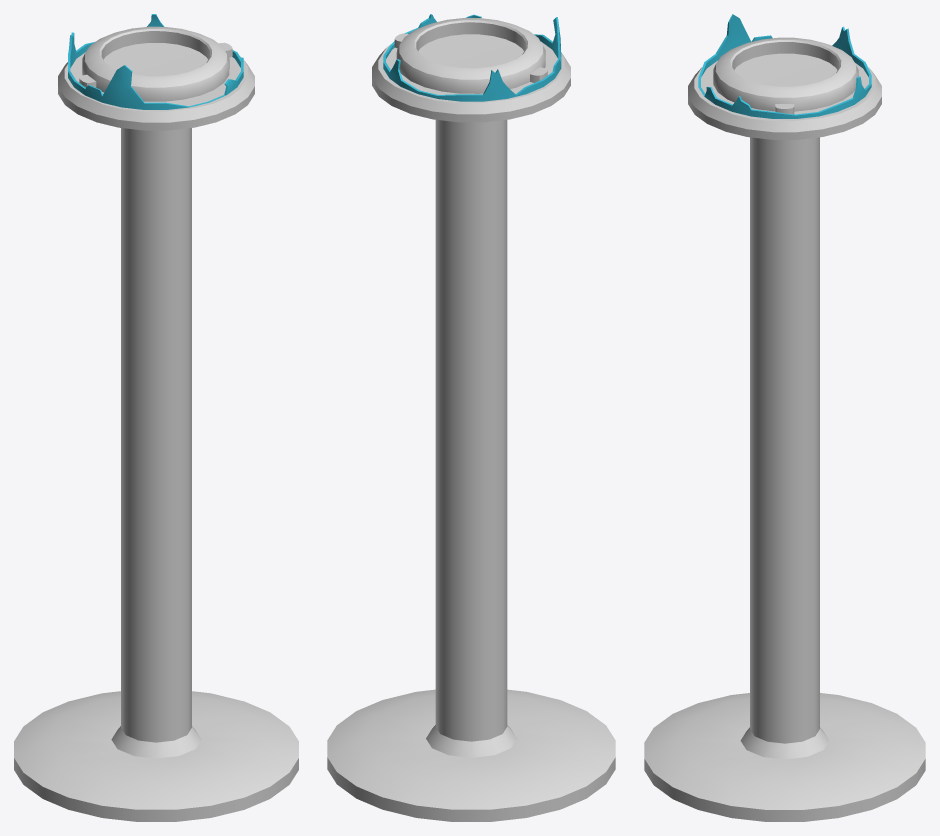
Rendered from ButtonStandCombined.fbx.
3 renders of one model, left to right at view 1: azimuth 30°, elevation 25°; view 2: azimuth 150°, elevation 25°; view 3: azimuth 270°, elevation 25°, orthographic. The views are drawn at different scales.
Parts seen in each view (by area): view 1: Cylinder; view 2: Cylinder; view 3: Cylinder.
Part boxes in pixels (x1,y1,x2,y2): Cylinder: [14, 14, 298, 821]; Cylinder: [327, 14, 615, 821]; Cylinder: [644, 14, 925, 821].
Bounding box in the file's own units: 37.91 × 107 × 37.91.
